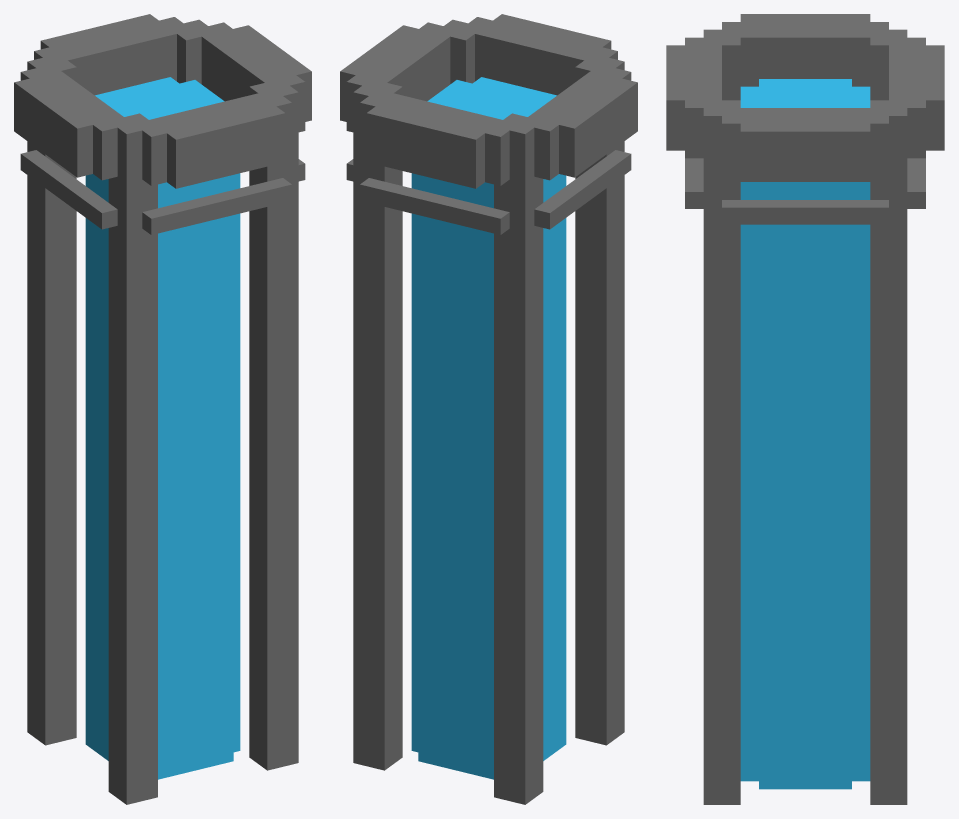
Rendered from column.obj.
3 views of the same model, side by side, from view 1: azimuth 30°, elevation 25°; view 2: azimuth 150°, elevation 25°; view 3: azimuth 270°, elevation 25° (orthographic). The views are drawn at different scales.
Bounding box in the file's own units: 15 × 41 × 15.
Materials: 1 (1 with a texture image).
